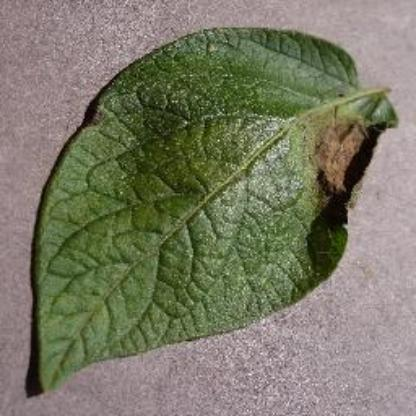Late-Blight: (48, 16, 390, 402)
